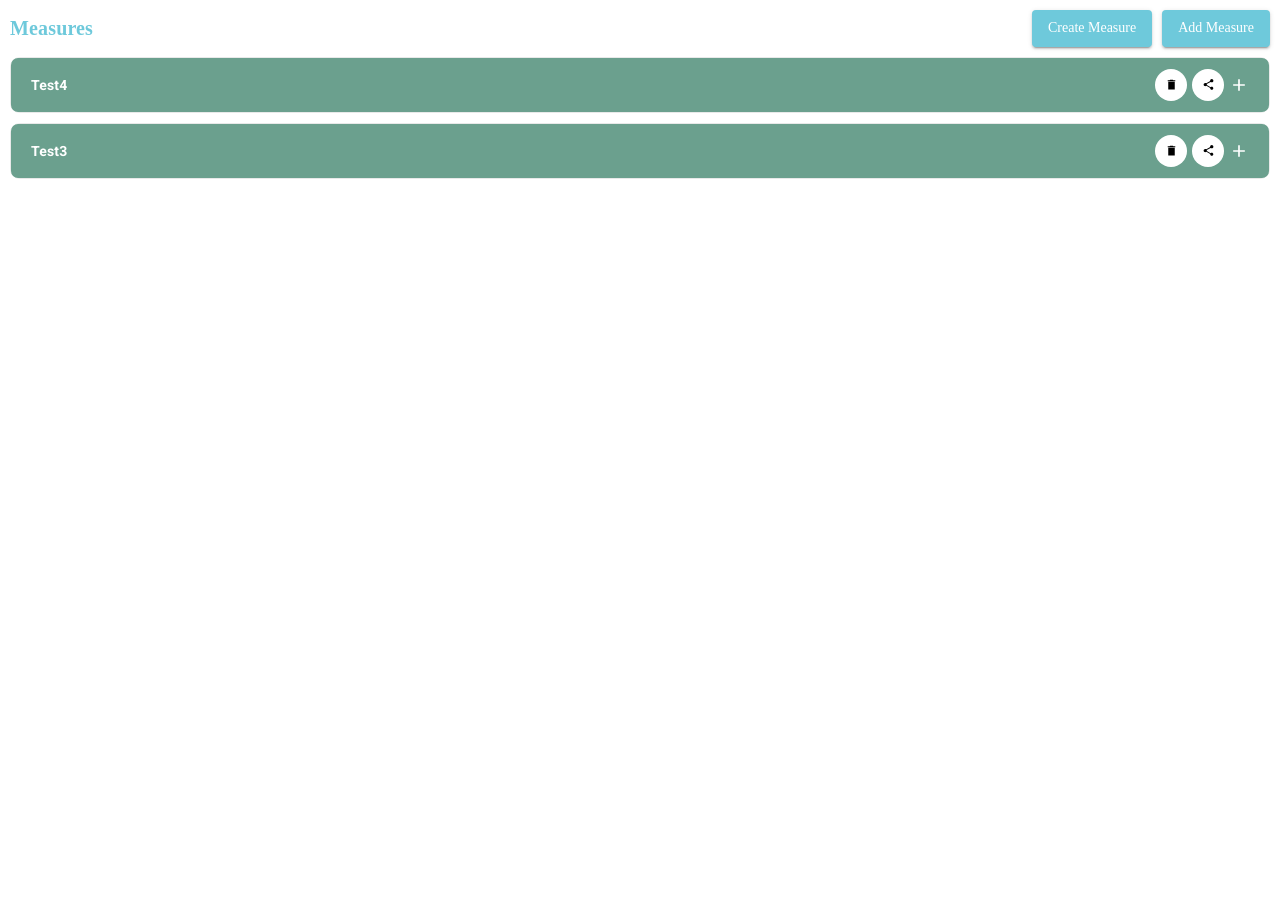
Scenario: Therapist patient measures › click on delete button
Click the element with test id "iconButton_a6e9bf54-76fe-49e0-8872-a7ff0681ccf7_1": (1171, 84) [1155, 68, 1187, 100]
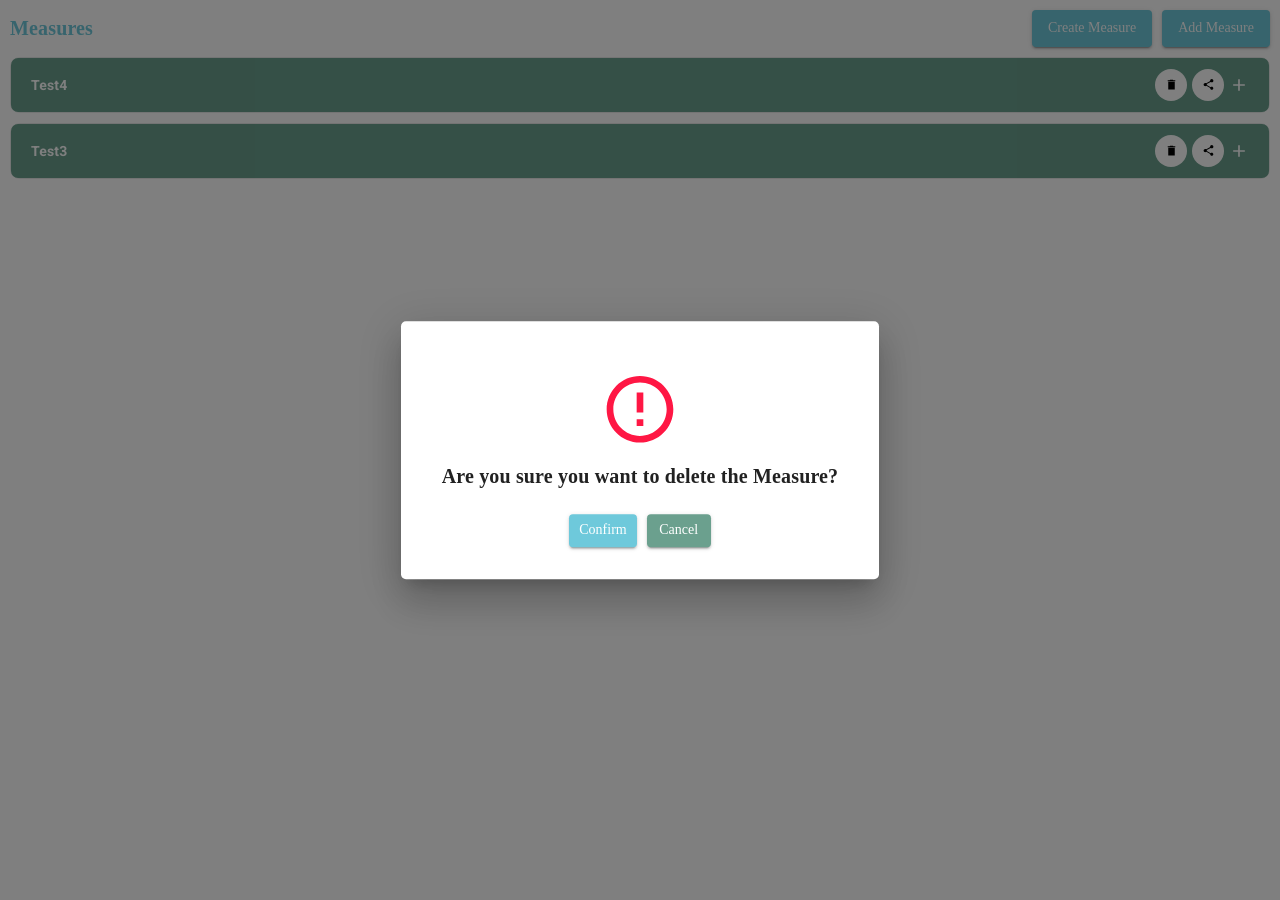
Click the button with test id "confirmButton": (603, 531) [569, 514, 637, 547]
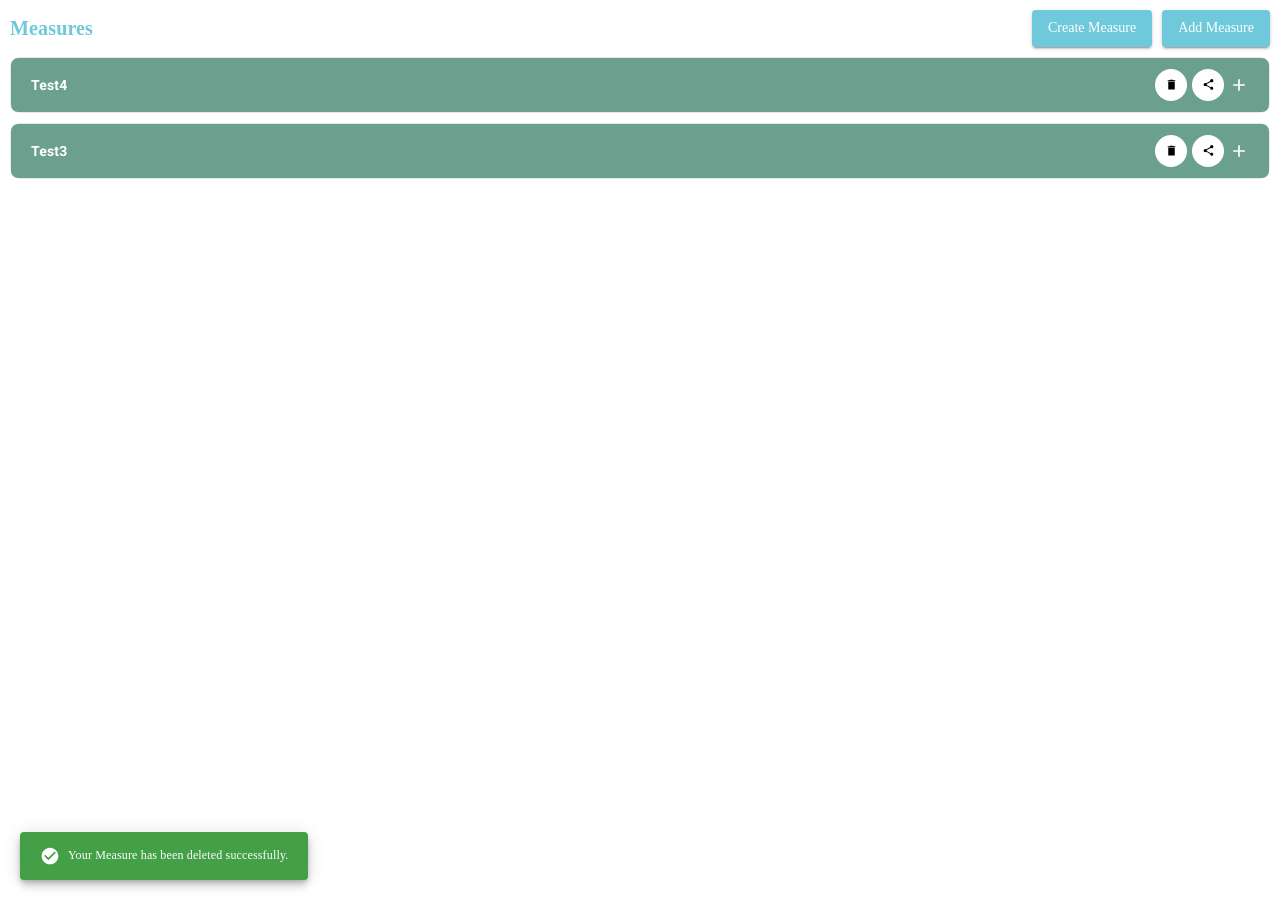
Now the text "Your Measure has been deleted successfully." is shown, box [40, 846, 288, 866]
